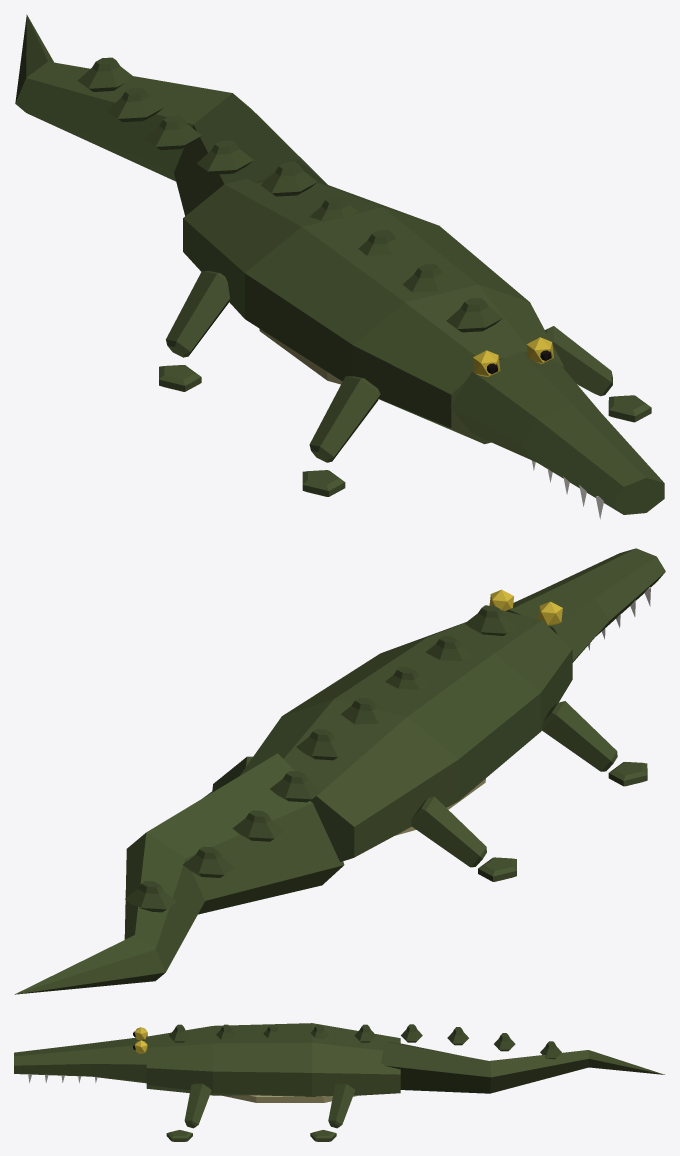
Rendered from beast_crocodile.glb.
The picture shows the model from 3 angles, top to bottom: view 1: azimuth 30°, elevation 25°; view 2: azimuth 150°, elevation 25°; view 3: azimuth 270°, elevation 25°; orthographic projection. The views are drawn at different scales.
Parts seen in each view (by area): view 1: beast_crocodile; view 2: beast_crocodile; view 3: beast_crocodile.
Part boxes in pixels (left/top/right/bottom): beast_crocodile: left=15, top=14, right=664, bottom=519; beast_crocodile: left=14, top=548, right=665, bottom=994; beast_crocodile: left=14, top=1023, right=664, bottom=1141.
Bounding box in the file's own units: 1.78 × 0.75 × 5.9.
